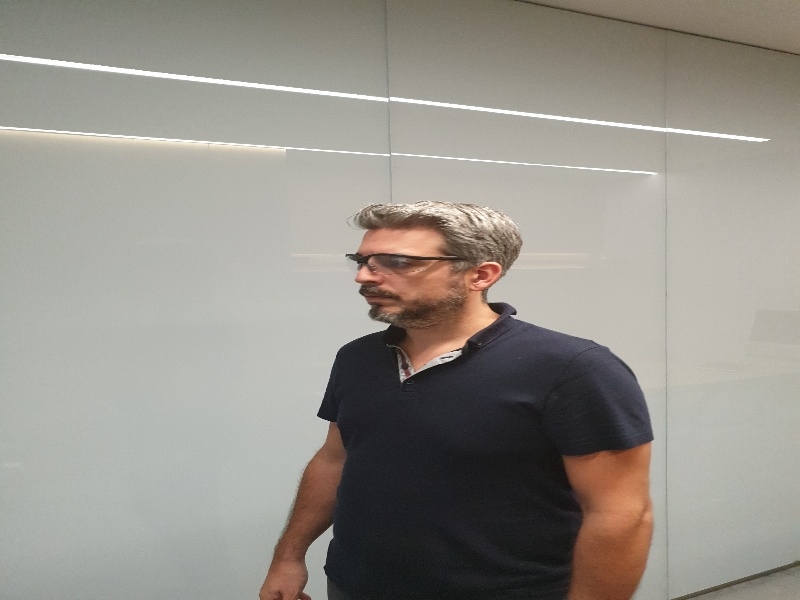Gozluk: (343, 250, 476, 277)
